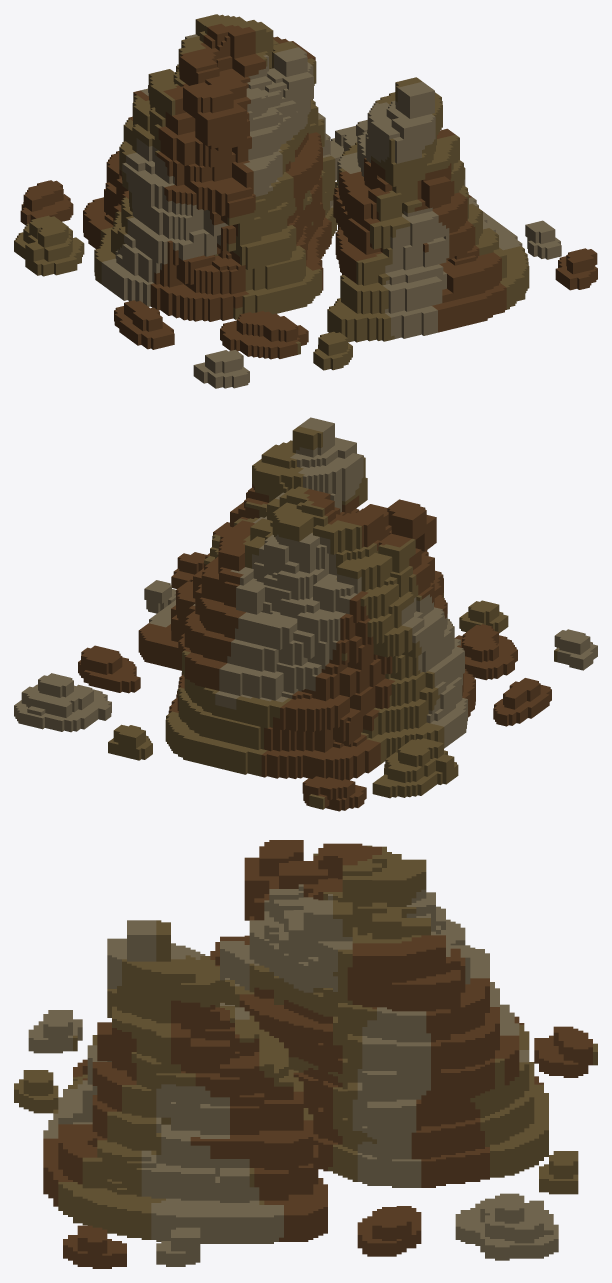
Rendered from pileStone3.obj.
The picture shows the model from 3 angles, top to bottom: view 1: azimuth 30°, elevation 25°; view 2: azimuth 150°, elevation 25°; view 3: azimuth 270°, elevation 25°; orthographic projection. The views are drawn at different scales.
Bounding box in the file's own units: 11.8 × 6 × 11.9.
Materials: 1 (1 with a texture image).
